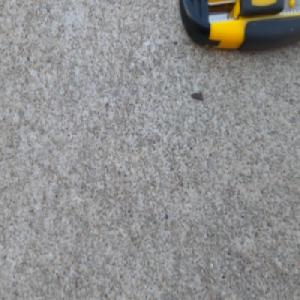Cutter: (175, 0, 300, 58)
